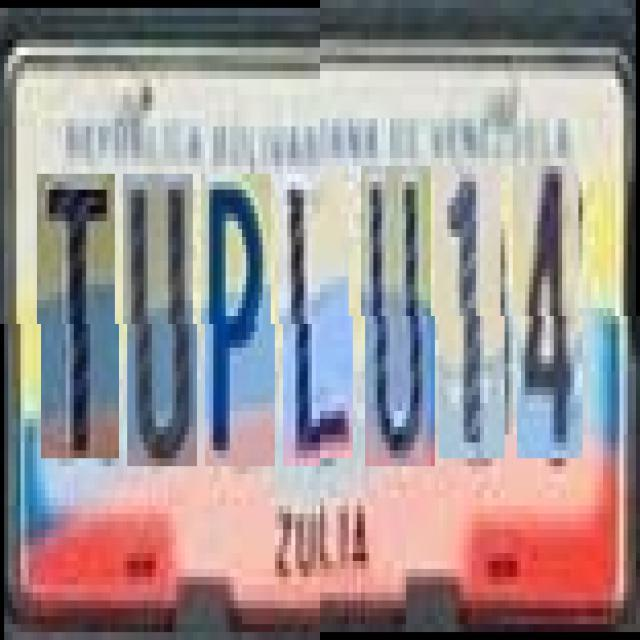1: (440, 174, 504, 466)
4: (516, 174, 582, 466)
L: (283, 174, 353, 466)
P: (205, 174, 275, 466)
T: (41, 174, 119, 458)
U: (365, 174, 435, 474), (127, 174, 197, 466)
